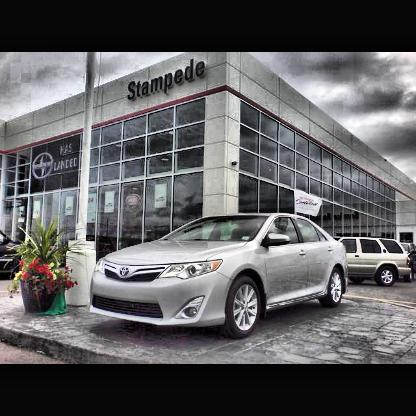Toyota Camry Sedan 2012: (89, 213, 352, 343)
